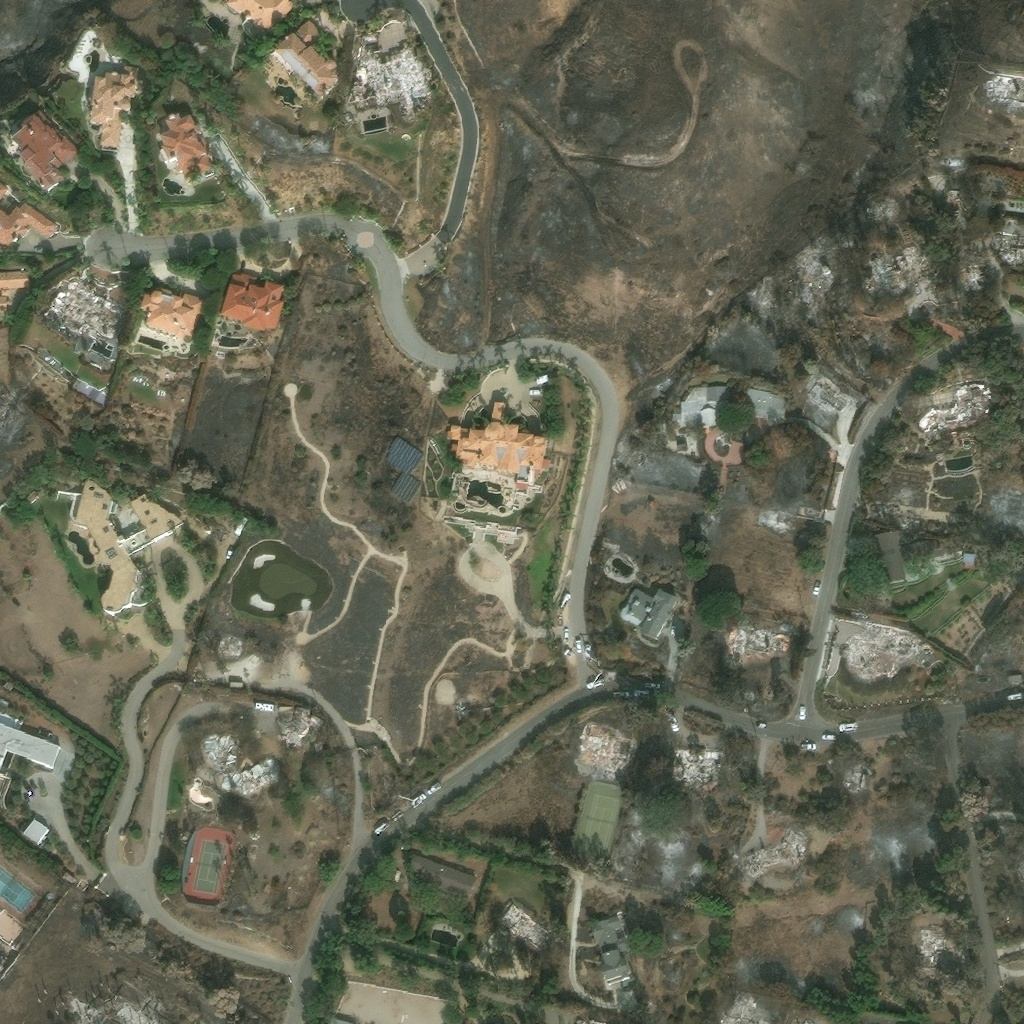0 no-damage: (74, 478, 184, 611), (10, 108, 82, 192), (273, 19, 342, 103), (446, 422, 551, 476), (671, 386, 788, 431), (403, 848, 487, 910), (87, 64, 138, 147), (158, 113, 216, 185), (219, 272, 283, 332), (588, 914, 634, 989), (139, 287, 203, 340), (0, 201, 57, 249), (382, 436, 422, 503), (225, 0, 295, 33), (874, 530, 906, 583), (23, 819, 49, 845), (491, 402, 504, 421), (961, 553, 974, 566), (1006, 674, 1021, 684)
3 destroyed: (349, 32, 430, 120), (198, 731, 284, 805), (44, 275, 120, 337), (845, 621, 920, 678), (741, 826, 807, 882), (710, 320, 776, 372), (721, 623, 799, 665), (580, 723, 635, 777), (497, 900, 550, 951), (913, 925, 956, 980), (669, 747, 721, 783), (277, 713, 321, 752), (115, 999, 154, 1023), (998, 227, 1023, 261), (71, 994, 94, 1023), (139, 988, 160, 1015), (940, 192, 963, 215), (218, 634, 242, 656), (842, 771, 868, 790), (722, 1013, 771, 1023), (1005, 197, 1023, 210)
